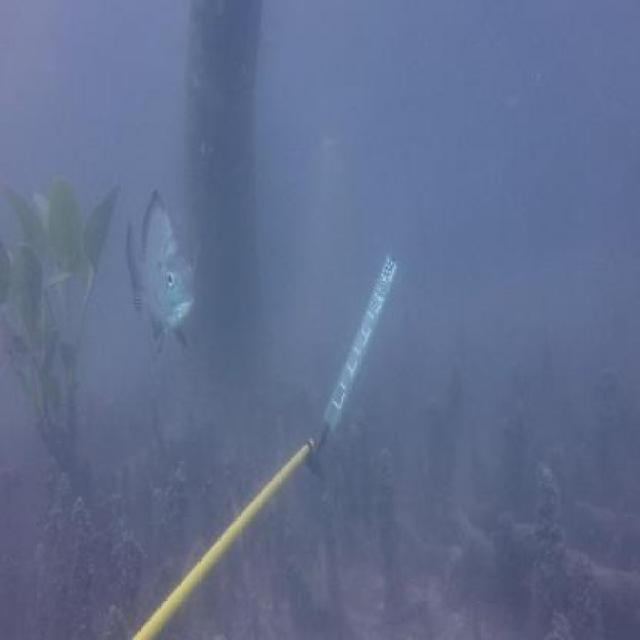acanthopagrus_palmaris: (125, 181, 198, 362)
